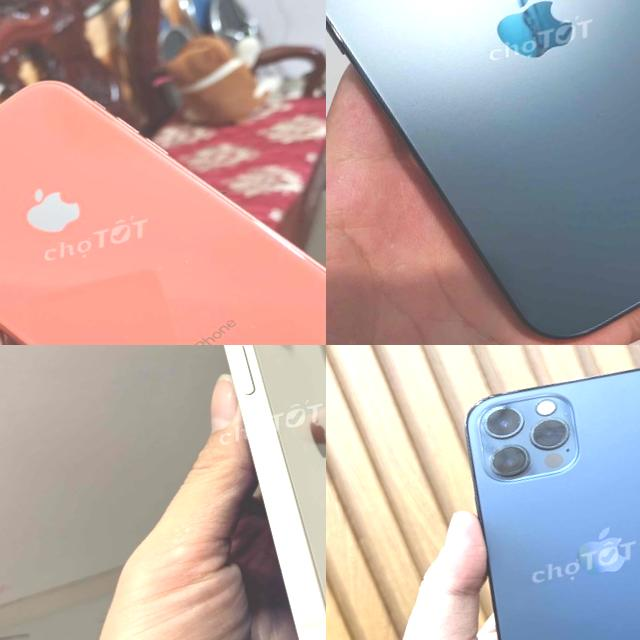gen_12_13: (326, 0, 640, 345), (434, 345, 640, 640), (192, 345, 326, 640)
gen_x_xs: (0, 0, 326, 345)
